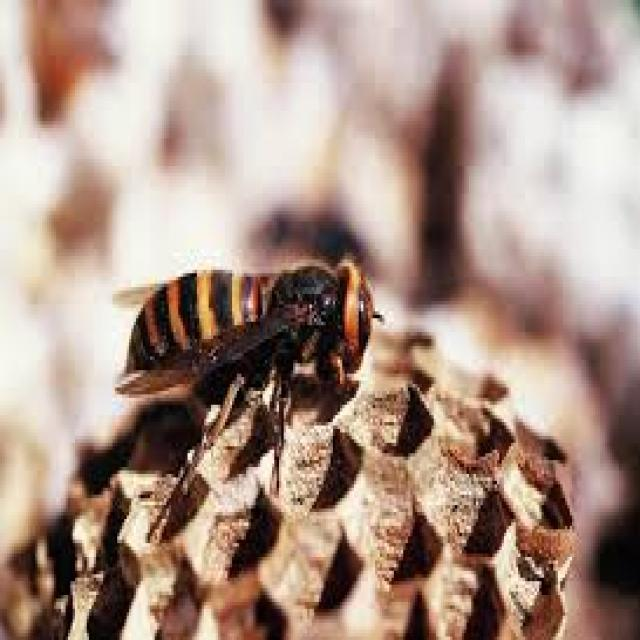Wasp: (103, 233, 381, 481)
